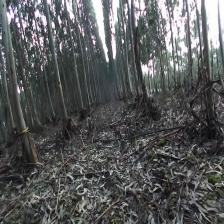trunk: (0, 1, 37, 167), (46, 17, 68, 124), (131, 6, 150, 104), (201, 4, 215, 129), (68, 31, 83, 110)
